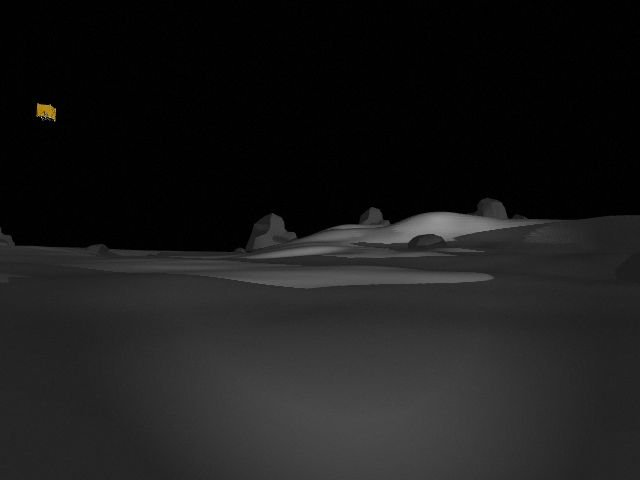cubesat: (33, 101, 60, 123)
